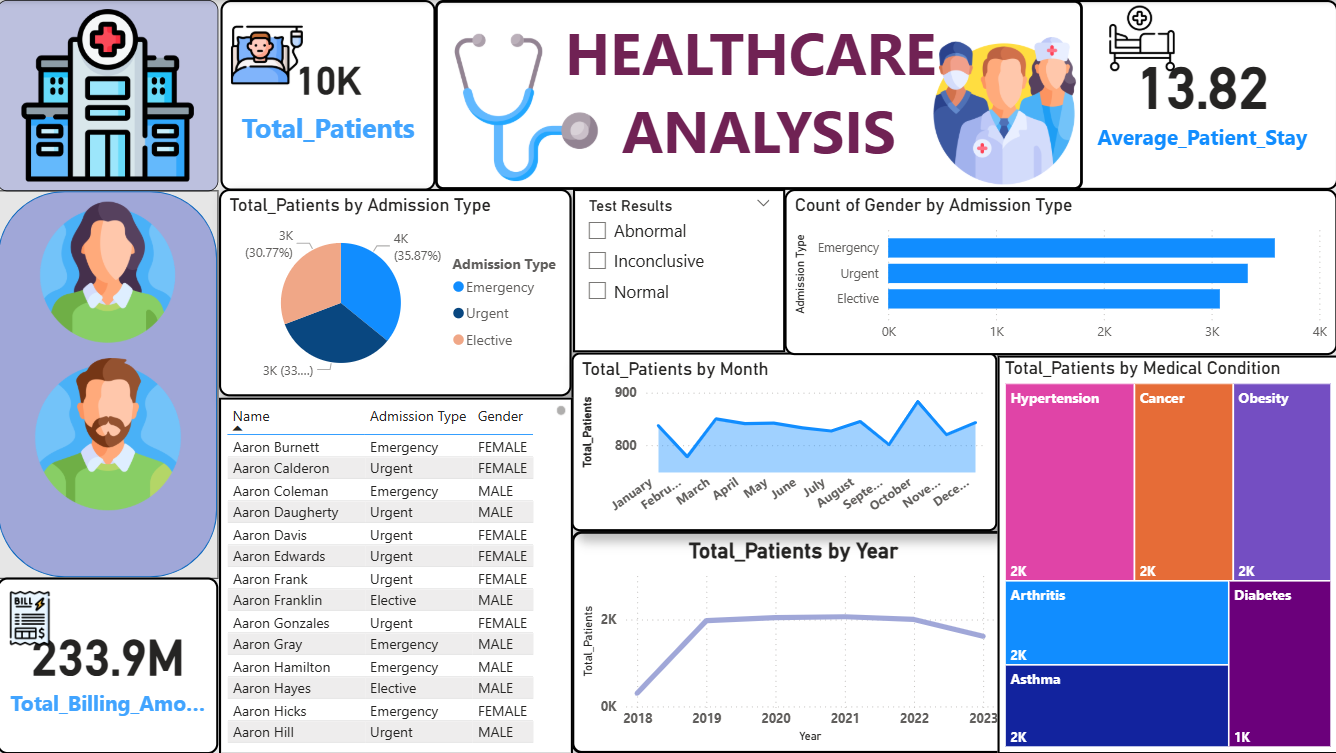

This screenshot's page, from the dashboard's own definition file:
{"tool":"powerbi","page":{"name":"Page 2","canvas":[1280,720],"ordinal":0},"visuals":[{"type":"card","fields":{"Values":["Healthcare_Data_v1__1.Total_Patients"]},"box":[212.8,0,205.6,182.2],"z":0},{"type":"image","box":[212.8,13.1,88.9,78.7],"z":1000},{"type":"card","fields":{"Values":["Healthcare_Data_v1__1.Total_Billing_Amount"]},"box":[0,551.9,211.6,168.6],"z":2000},{"type":"image","box":[0,544,62,92.3],"z":3000},{"type":"image","box":[0,0,211.6,182.9],"z":4000},{"type":"card","fields":{"Values":["Healthcare_Data_v1__1.Average_Patient_Stay"]},"box":[1021.2,0,259.3,181.3],"z":5000},{"type":"image","box":[1053,0,81.1,73.2],"z":6000},{"type":"shape","title":"FEMALE","box":[0,181.3,211.6,370.6],"z":7000},{"type":"pieChart","fields":{"Y":["Healthcare_Data_v1__1.Total_Patients"],"Category":["Healthcare_Data_v1__1.Admission Type"]},"box":[211.4,180.8,336.8,198.3],"z":8000},{"type":"image","box":[33.4,181.3,144.7,155.9],"z":9000},{"type":"image","box":[9.5,337.2,192.5,155.9],"z":10000},{"type":"lineChart","fields":{"Y":["Healthcare_Data_v1__1.Total_Patients"],"Category":["Healthcare_Data_v1__1.Date of Admission.Variation.Date Hierarchy.Year"]},"box":[548.2,507.3,418.4,212.8],"z":11000},{"type":"stackedAreaChart","fields":{"Y":["Healthcare_Data_v1__1.Total_Patients"],"Category":["Healthcare_Data_v1__1.Date of Admission.Variation.Date Hierarchy.Month"]},"box":[548.2,336.8,406.7,170.6],"z":12000},{"type":"tableEx","fields":{"Values":["Healthcare_Data_v1__1.Name","Healthcare_Data_v1__1.Admission Type","Healthcare_Data_v1__1.Gender"]},"box":[211.4,379,338.2,341.1],"z":13000},{"type":"treemap","fields":{"Values":["Healthcare_Data_v1__1.Total_Patients"],"Details":["Healthcare_Data_v1__1.Medical Condition"]},"box":[954.9,339.7,325.1,380.5],"z":14000},{"type":"slicer","fields":{"Values":["Healthcare_Data_v1__1.Test Results"]},"box":[549.6,180.8,202.6,156],"z":15000},{"type":"clusteredBarChart","fields":{"Category":["Healthcare_Data_v1__1.Admission Type"],"Y":["CountNonNull(Healthcare_Data_v1__1.Gender)"]},"box":[752.3,180.8,527.7,158.9],"z":16000},{"type":"textbox","box":[418.3,0,618.7,181.3],"z":17000},{"type":"image","box":[429.5,22.3,151.1,159.1],"z":18000},{"type":"image","box":[886,30.2,151.1,151.1],"z":19000}]}

Visuals, with their boxes in screenshot pixels (x1, y1, x2, y2), scaled from the page's 1280x720 canvas onto the 1336x753 screenshot:
card - Healthcare_Data_v1__1.Total_Patients: box(222, 0, 437, 191)
image: box(222, 14, 315, 96)
card - Healthcare_Data_v1__1.Total_Billing_Amount: box(0, 577, 221, 752)
image: box(0, 569, 65, 665)
image: box(0, 0, 221, 191)
card - Healthcare_Data_v1__1.Average_Patient_Stay: box(1066, 0, 1335, 190)
image: box(1099, 0, 1184, 77)
"FEMALE" shape: box(0, 190, 221, 577)
pieChart - Healthcare_Data_v1__1.Total_Patients x Healthcare_Data_v1__1.Admission Type: box(221, 189, 572, 396)
image: box(35, 190, 186, 353)
image: box(10, 353, 211, 516)
lineChart - Healthcare_Data_v1__1.Total_Patients x Healthcare_Data_v1__1.Date of Admission.Variation.Date Hierarchy.Year: box(572, 531, 1009, 752)
stackedAreaChart - Healthcare_Data_v1__1.Total_Patients x Healthcare_Data_v1__1.Date of Admission.Variation.Date Hierarchy.Month: box(572, 352, 997, 531)
tableEx - Healthcare_Data_v1__1.Name x Healthcare_Data_v1__1.Admission Type: box(221, 396, 574, 752)
treemap - Healthcare_Data_v1__1.Total_Patients x Healthcare_Data_v1__1.Medical Condition: box(997, 355, 1335, 752)
slicer - Healthcare_Data_v1__1.Test Results: box(574, 189, 785, 352)
clusteredBarChart - Healthcare_Data_v1__1.Admission Type x CountNonNull(Healthcare_Data_v1__1.Gender): box(785, 189, 1335, 355)
textbox: box(437, 0, 1082, 190)
image: box(448, 23, 606, 190)
image: box(925, 32, 1082, 190)
